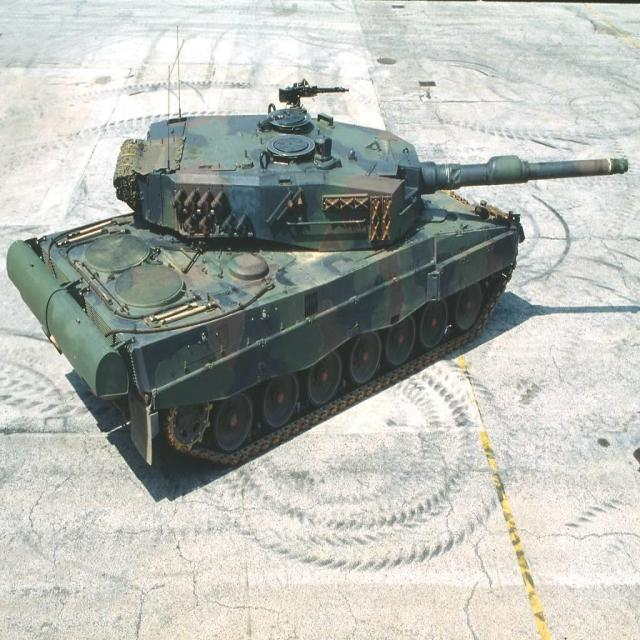Tanks: (6, 87, 626, 420)
